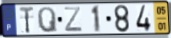1: (91, 4, 103, 35)
4: (135, 4, 153, 33)
8: (113, 4, 131, 34)
Q: (36, 6, 59, 34)
T: (19, 6, 35, 35)
Z: (63, 6, 84, 33)
